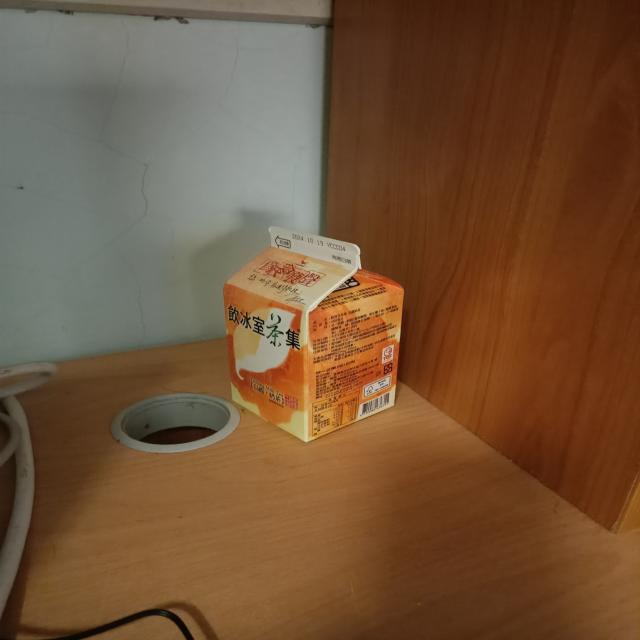YinBinShi_WuLongMilkTea: (216, 225, 411, 440)
